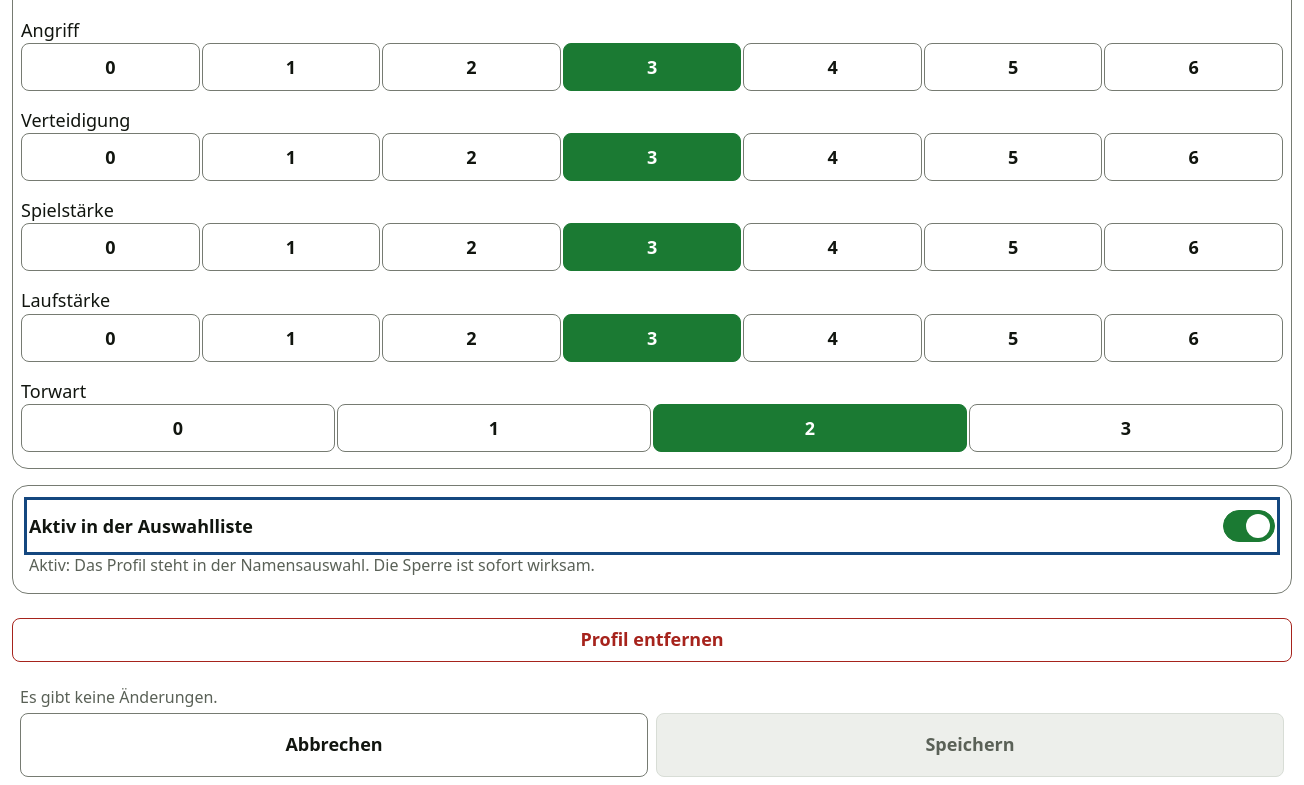
it: Status: Sperren und Entfernen › sperrt ein Profil, das nicht online ist, ohne Dialog; die Schaltfläche bleibt dasselbe Element
(page scrolled)
Click the switch with test id "admin-profil-sperren".
click(141, 526)  # box [29,502,1275,550]
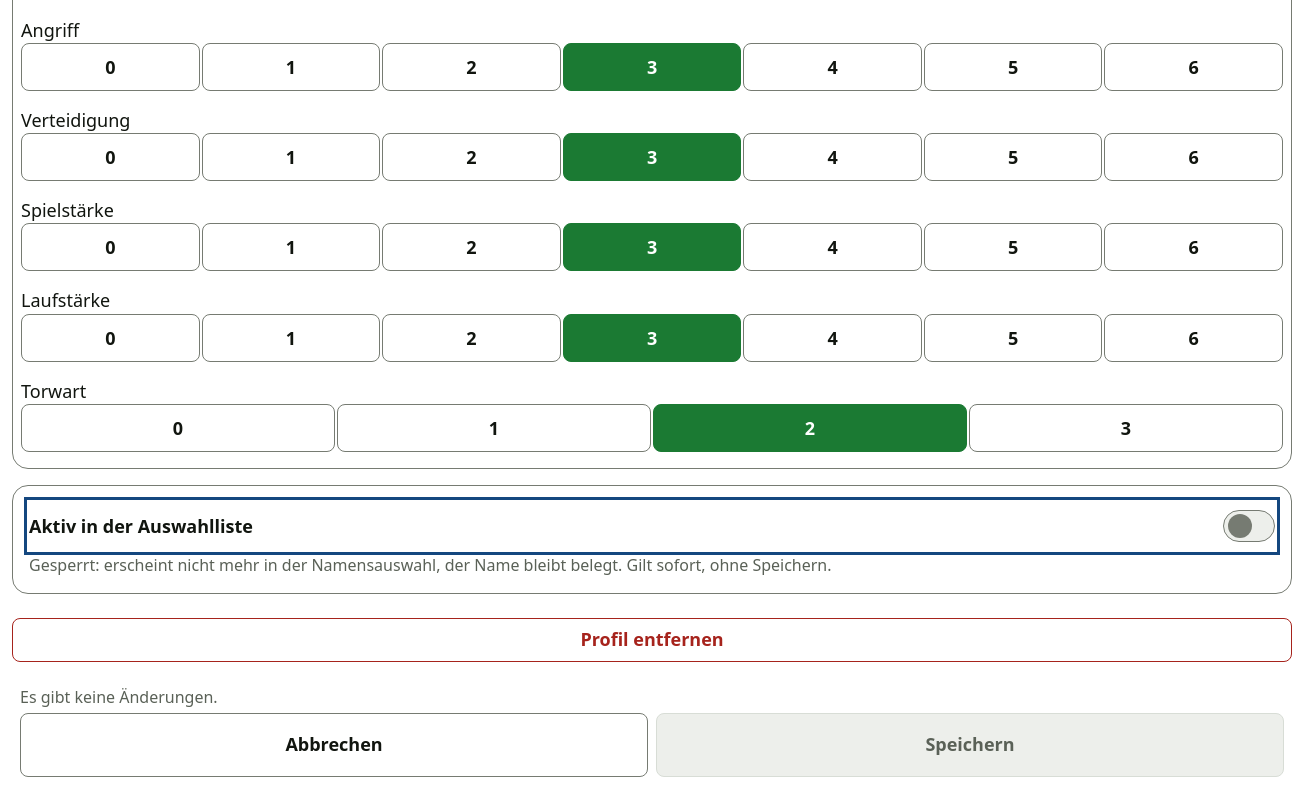
Result: the text with test id "admin-profil-sperren-text" shows "Gesperrt: erscheint nicht mehr in der Namensauswahl" at [29,554,832,576]
